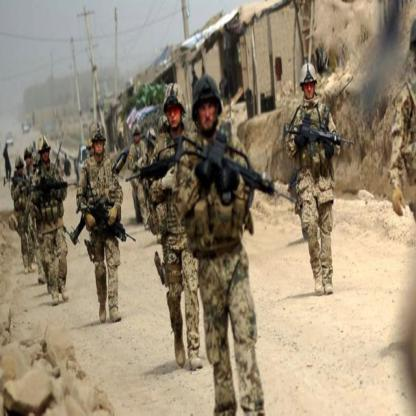face: (199, 96, 217, 131), (167, 101, 182, 128), (304, 78, 316, 99), (95, 136, 105, 153), (43, 149, 50, 162), (26, 154, 32, 165), (90, 145, 96, 156), (19, 165, 24, 176), (136, 133, 140, 142)
